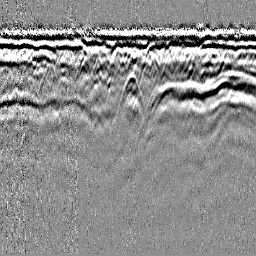cavity: (112, 73, 146, 127)
